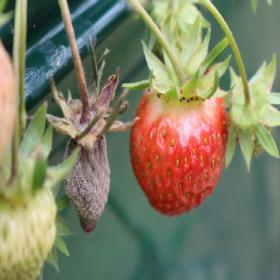Gray Mold: (46, 66, 135, 234)
